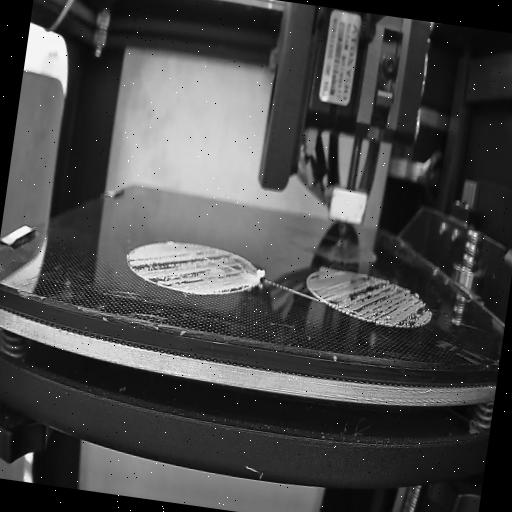under_extrusion: (124, 242, 256, 298), (328, 270, 435, 330), (300, 268, 327, 301)
